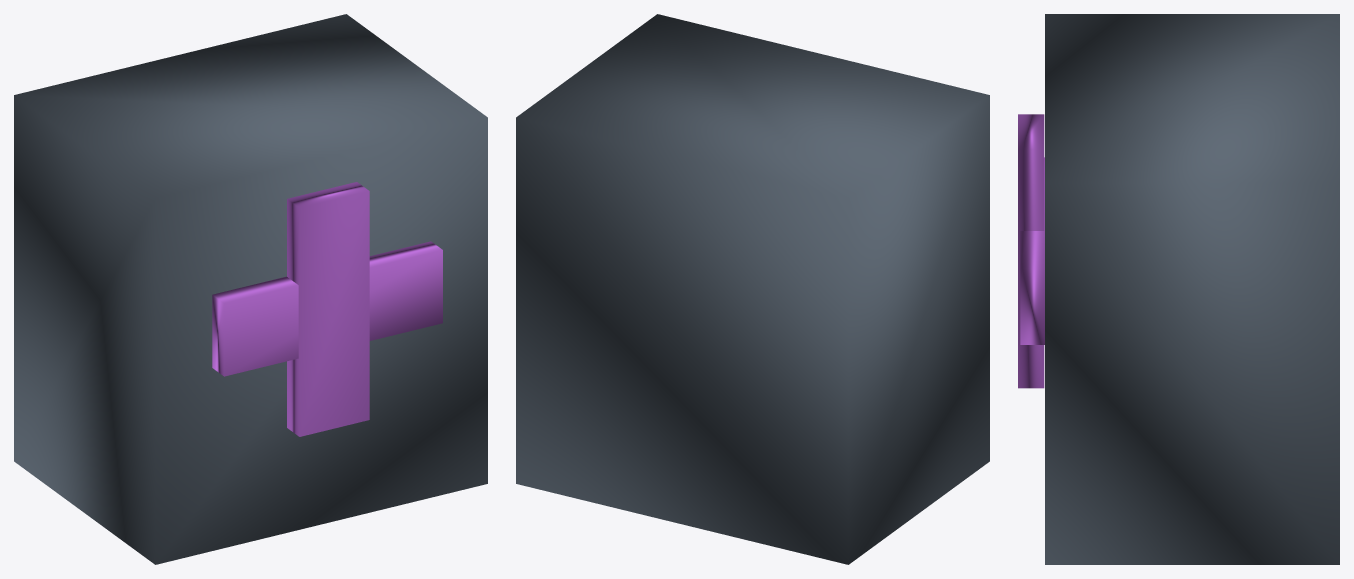
The model's file is magnet.glb.
The picture shows the model from 3 angles, left to right: view 1: azimuth 30°, elevation 25°; view 2: azimuth 150°, elevation 25°; view 3: azimuth 270°, elevation 25°; orthographic projection. The views are drawn at different scales.
Parts seen in each view (by area): view 1: Hardware; view 2: Hardware; view 3: Hardware.
Part boxes in pixels (bbox=[...]): Hardware: bbox=[14, 14, 487, 564]; Hardware: bbox=[516, 14, 989, 564]; Hardware: bbox=[1018, 14, 1339, 564].
Size of the model in its own units: 0.38 by 0.4 by 0.3055.
